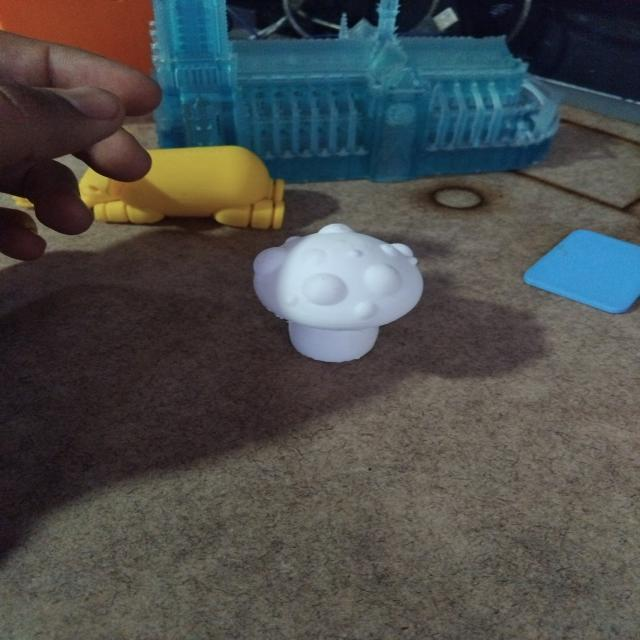Hongo: (243, 222, 441, 384)
